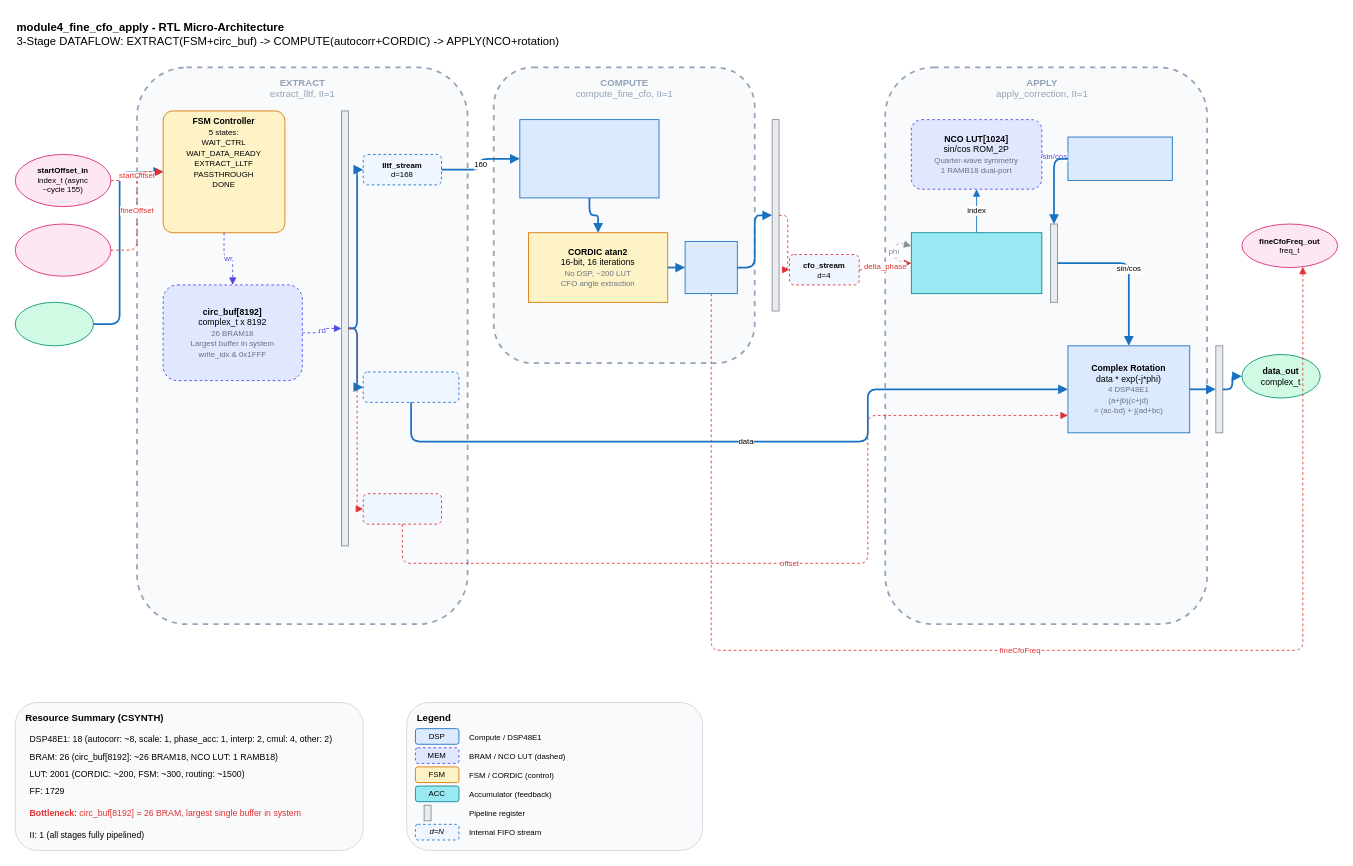
The diagram is 1353 pixels wide and 866 high, and some of its shapes have lost their labels. The centre of each missing label's shape, as x and y in pixels:
"Autocorrelation 160 L-LTF samples Complex conj product + accumulation ~8 DSP48E1" belongs at point 589,158.
"CFO Scale angle -> freq_t 1 DSP (multiply)" belongs at point 710,267.
"data_in complex_t" belongs at point 54,323.
"fineOffset_in index_t (async ~cycle 6600)" belongs at point 62,249.
"Linear Interp 2 DSP (I/Q interp)" belongs at point 1119,158.
"offset_stream d=4" belongs at point 402,508.
"passthrough_stream d=2048" belongs at point 410,386.
"Phase Accumulator phi += delta_phase 32-bit accumulator 1 DSP feedback" belongs at point 976,263.
